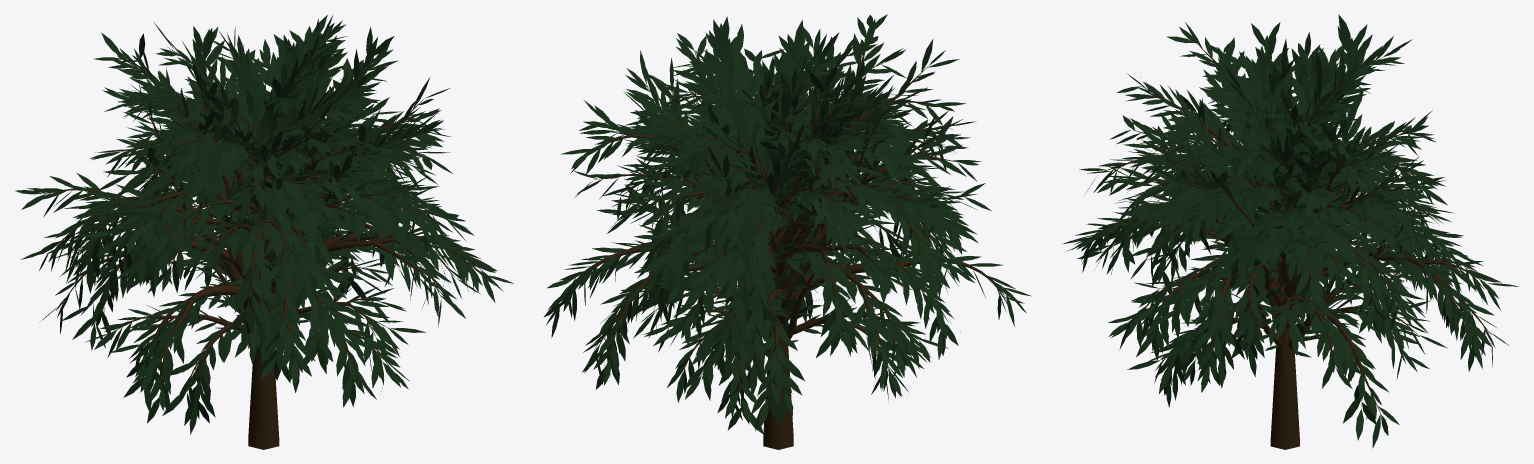
File: treeDraco.glb
3 renders of one model, left to right at view 1: azimuth 30°, elevation 25°; view 2: azimuth 150°, elevation 25°; view 3: azimuth 270°, elevation 25°, orthographic. The views are drawn at different scales.
Visible parts, largest first — view 1: tree; view 2: tree; view 3: tree.
Boxes of the visible parts, x1,y1,x2,y2 form: tree: (15, 15, 513, 449); tree: (543, 14, 1031, 449); tree: (1063, 14, 1518, 449).
Size of the model in its own units: 489 by 486 by 517.
